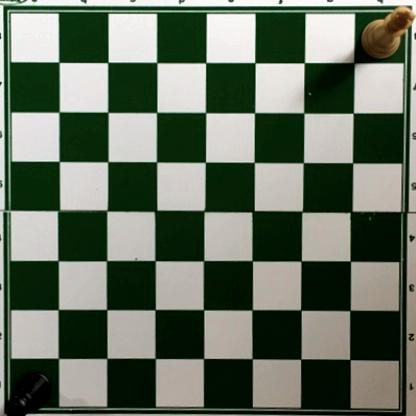black-king: (3, 369, 55, 416)
white-king: (360, 5, 416, 61)
